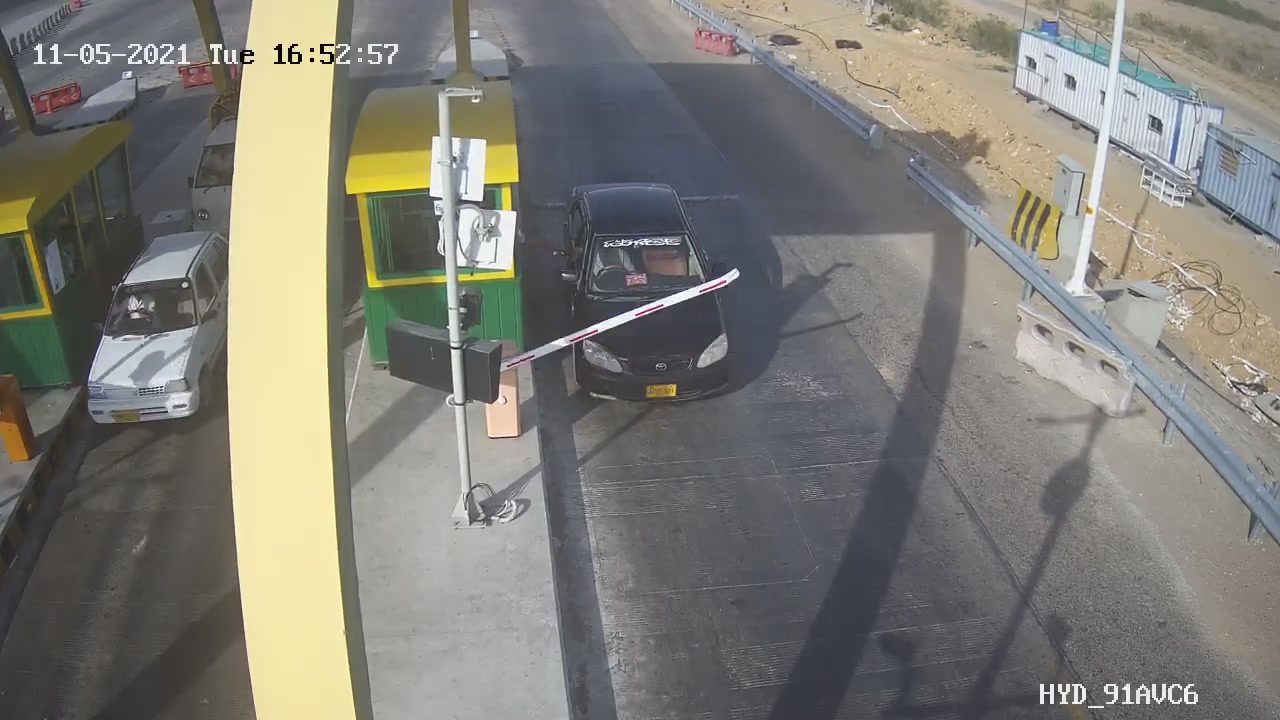F1: (542, 164, 756, 422)
